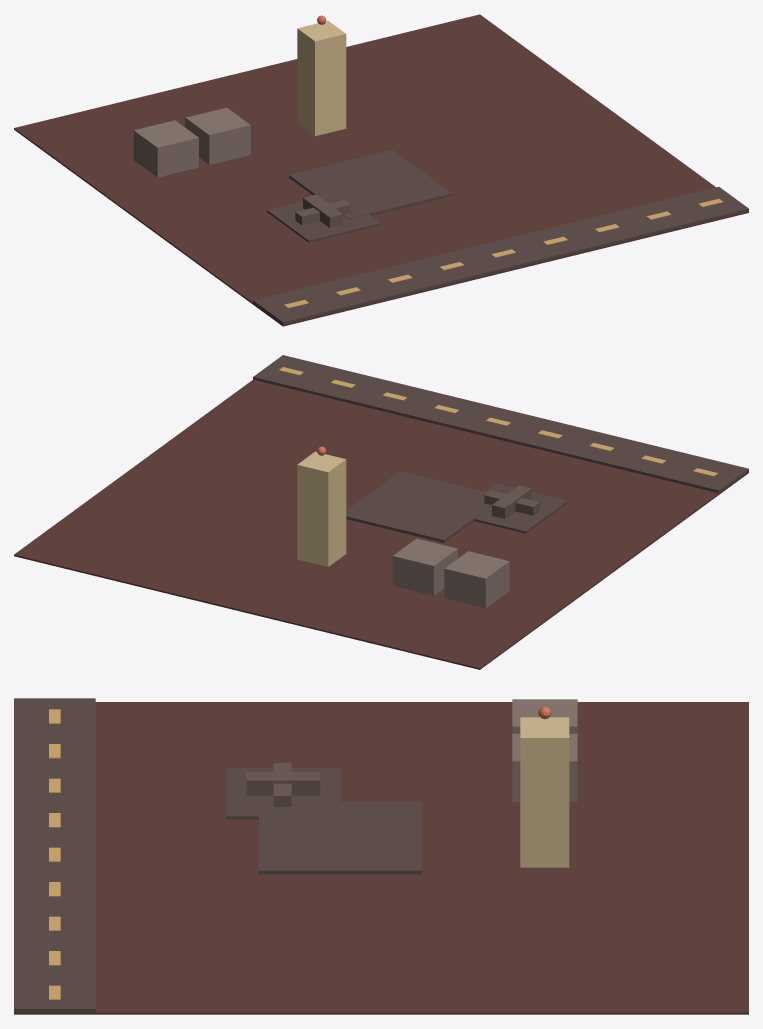
File: stage_05.glb
The picture shows the model from 3 angles, top to bottom: view 1: azimuth 30°, elevation 25°; view 2: azimuth 150°, elevation 25°; view 3: azimuth 270°, elevation 25°; orthographic projection. The views are drawn at different scales.
Visible parts, largest first — view 1: geometry_0; view 2: geometry_0; view 3: geometry_0.
Part boxes in pixels (x1,y1,x2,y2): geometry_0: [14, 14, 748, 326]; geometry_0: [14, 355, 748, 669]; geometry_0: [14, 698, 748, 1014].
Size of the model in its own units: 9 by 2.06 by 9.
